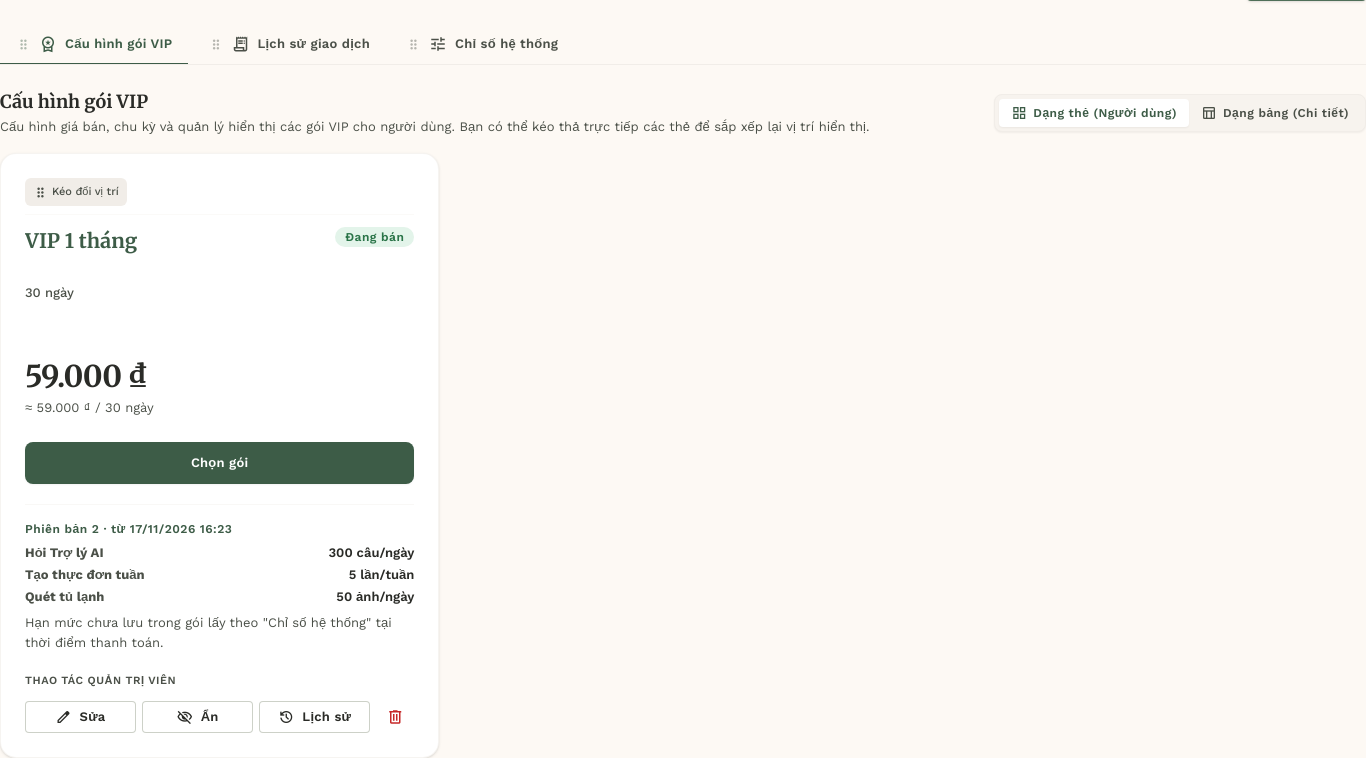
Test case: SCR-44 Gói VIP & Cấu hình quản trị › phiên bản gói và quyền lợi người mua (BR-PAY-SUB-01) › thẻ gói hiện phiên bản hiện hành, quyền lợi người mua và mở được lịch sử phiên bản
The image size is (1366, 758).
(page scrolled)
expect the text "Phiên bản 2 · từ 17/11/2026 16:23" is shown: met, box [25,522,232,536]
expect the text "300 câu/ngày" is shown: met, box [328,543,414,563]
Click the button with aria-label "Lịch sử phiên bản VIP 1 tháng" at (315, 717), box [259,701,370,733]
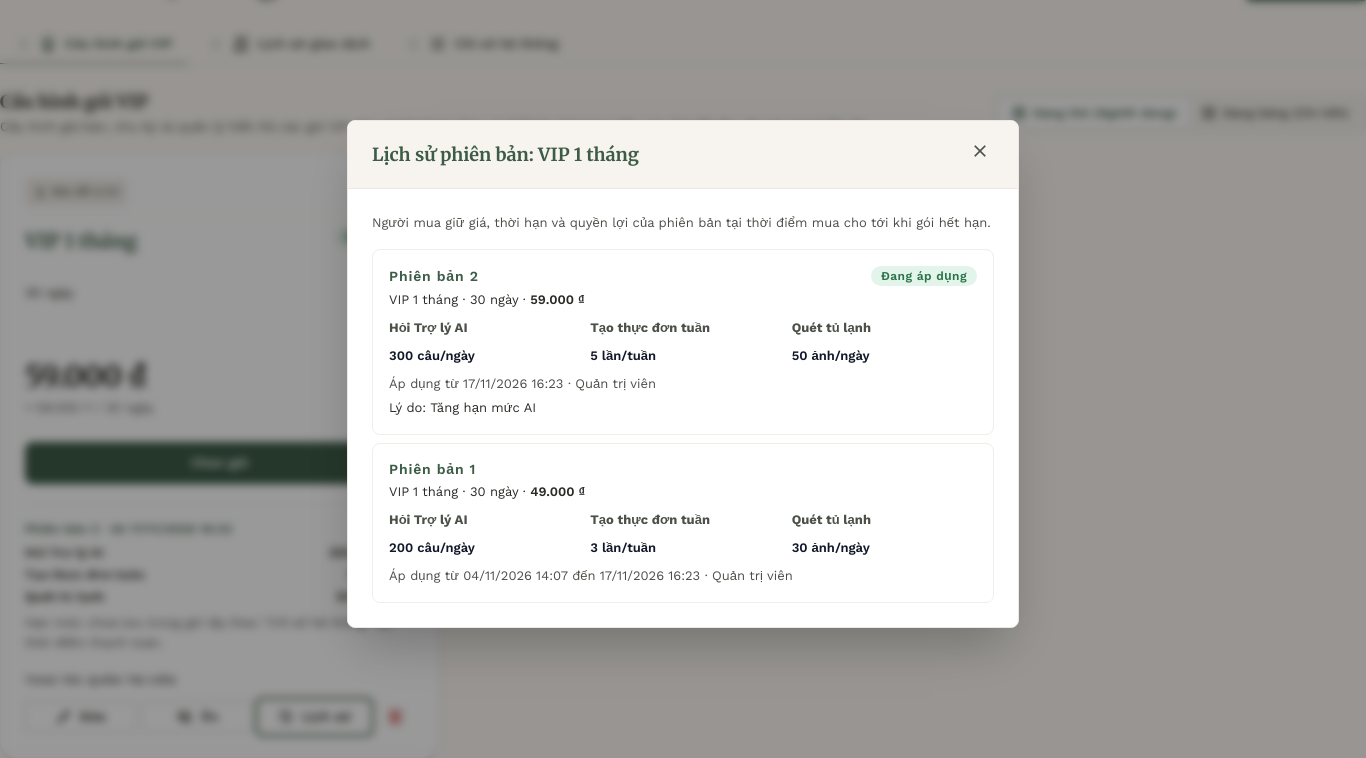
expect the number of list items is 2: met, box [372,249,994,435]; [372,443,994,603]
expect the heading "Phiên bản 2" is shown: met, box [389,267,479,285]
expect the text "Đang áp dụng" is shown: met, box [871,266,977,286]
